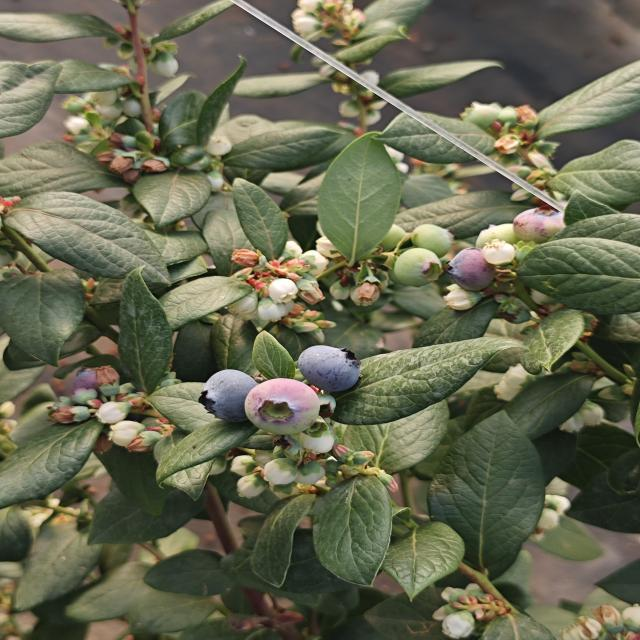ripe: (292, 341, 373, 393), (197, 366, 267, 424)
